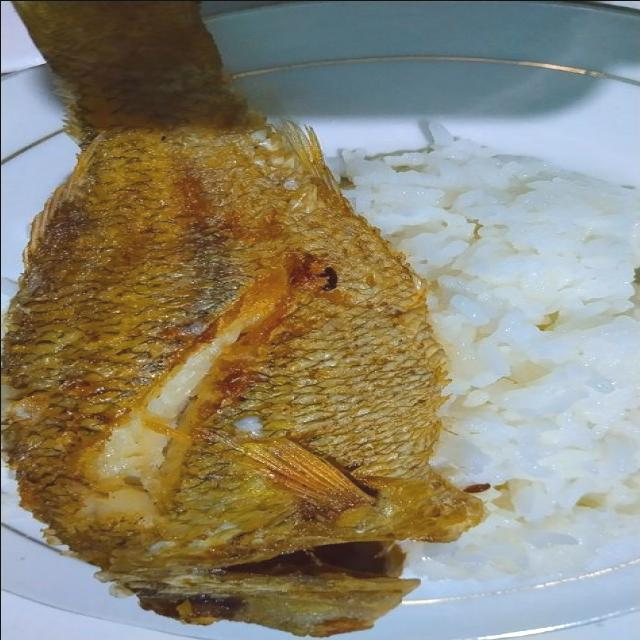ikan goreng: (0, 0, 486, 635)
